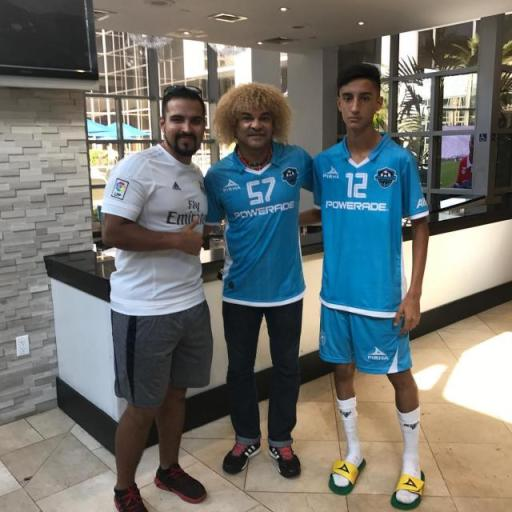Emirates: (164, 198, 209, 228)
